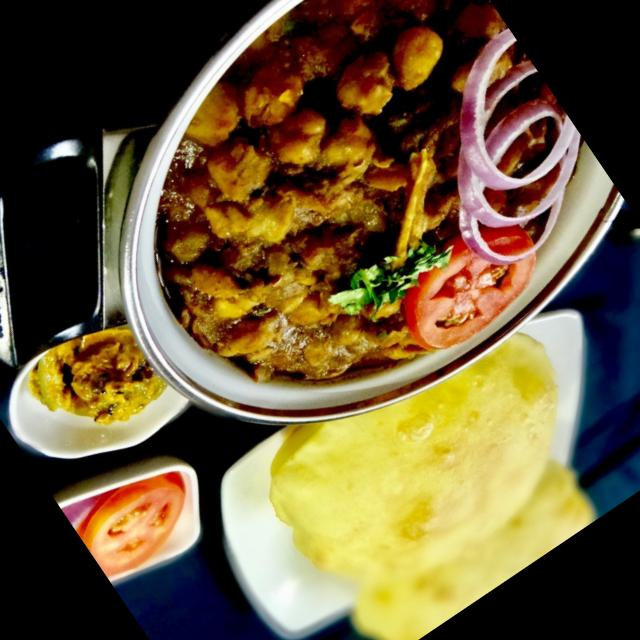Bhatura: (242, 286, 616, 629), (338, 449, 603, 640)
Chole: (67, 0, 633, 458)
